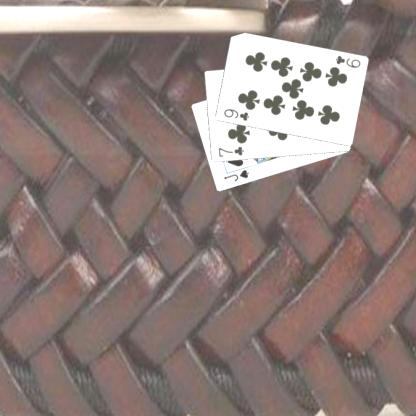7C: (215, 144, 245, 158)
9C: (332, 52, 362, 70), (221, 106, 251, 122)
JS: (221, 168, 250, 184)
